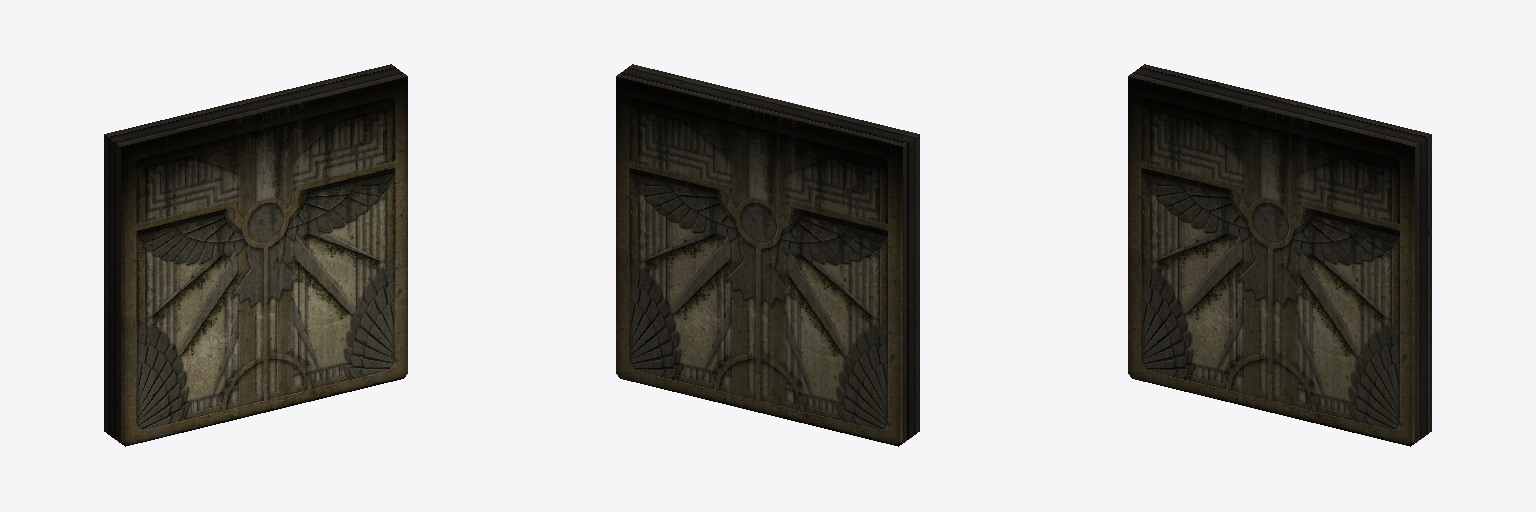
The picture shows the model from 3 angles: view 1: azimuth 30°, elevation 25°; view 2: azimuth 150°, elevation 25°; view 3: azimuth 330°, elevation 25°; orthographic projection.
Parts seen in each view (by area): view 1: Door_Alternate_Closed; view 2: Door_Alternate_Closed; view 3: Door_Alternate_Closed.
Part boxes in pixels (x1,y1,x2,y2): Door_Alternate_Closed: (104, 64, 407, 446); Door_Alternate_Closed: (616, 64, 919, 446); Door_Alternate_Closed: (1128, 64, 1431, 446).
Bounding box in the file's own units: 256 × 256 × 29.61.
1 materials, 1 textured.